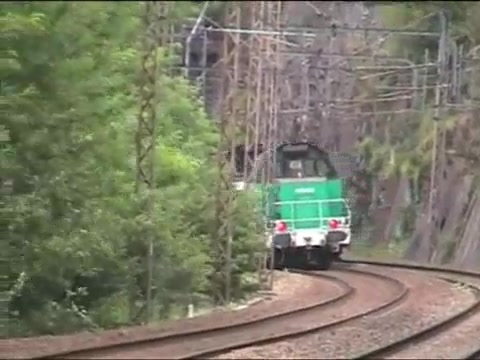train: (235, 133, 353, 272)
